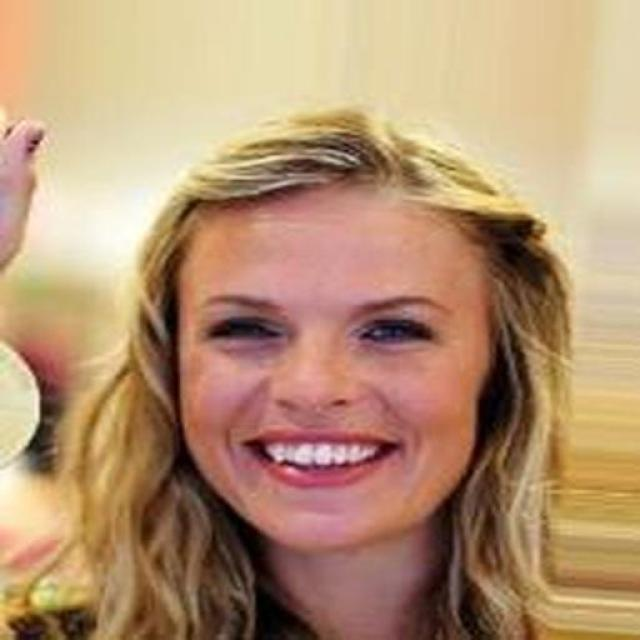bareface: (114, 107, 568, 554)
